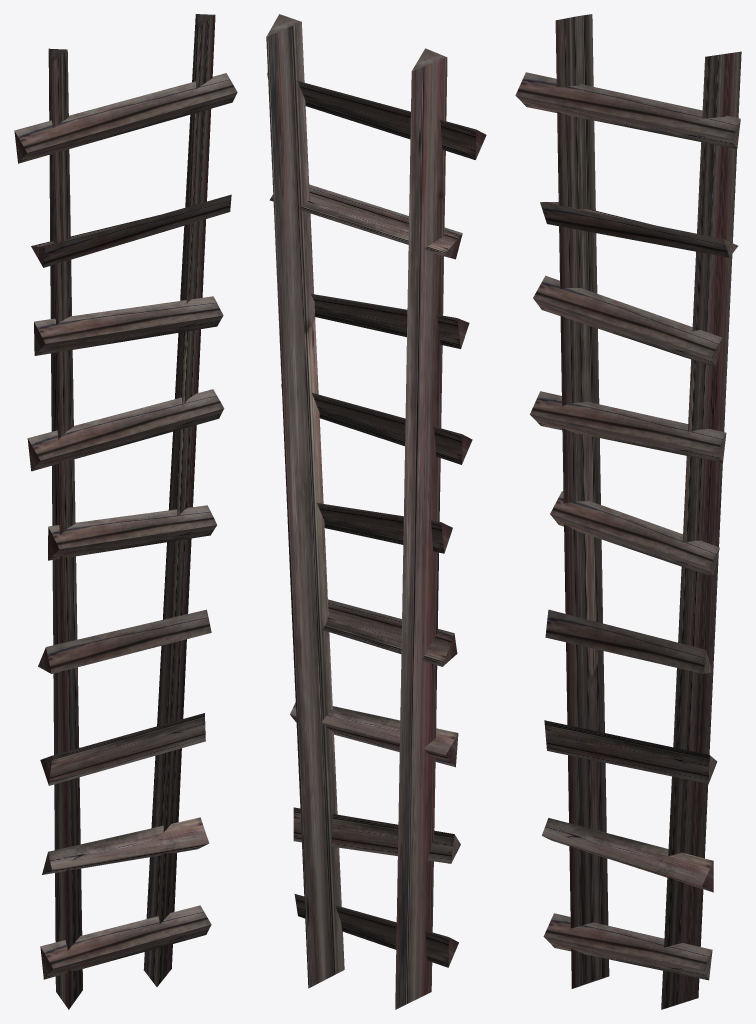
File: pir_m_prp_swm_ladder.fbx
The picture shows the model from 3 angles, left to right: view 1: azimuth 30°, elevation 25°; view 2: azimuth 150°, elevation 25°; view 3: azimuth 330°, elevation 25°; orthographic projection. The views are drawn at different scales.
Parts seen in each view (by area): view 1: step, rail_right, rail_left; view 2: rail_right, rail_left, step; view 3: step, rail_left, rail_right.
Boxes of the visible parts, x1,y1,x2,y2 form: step: (14, 73, 237, 979); rail_right: (143, 14, 215, 986); rail_left: (48, 48, 82, 1009); rail_right: (266, 14, 344, 988); rail_left: (395, 48, 447, 1009); step: (267, 72, 486, 967); step: (515, 72, 740, 980); rail_left: (555, 14, 609, 988); rail_right: (661, 51, 741, 1009).
Bounding box in the file's own units: 418 × 1799 × 113.
Materials: 1 (1 with a texture image).
